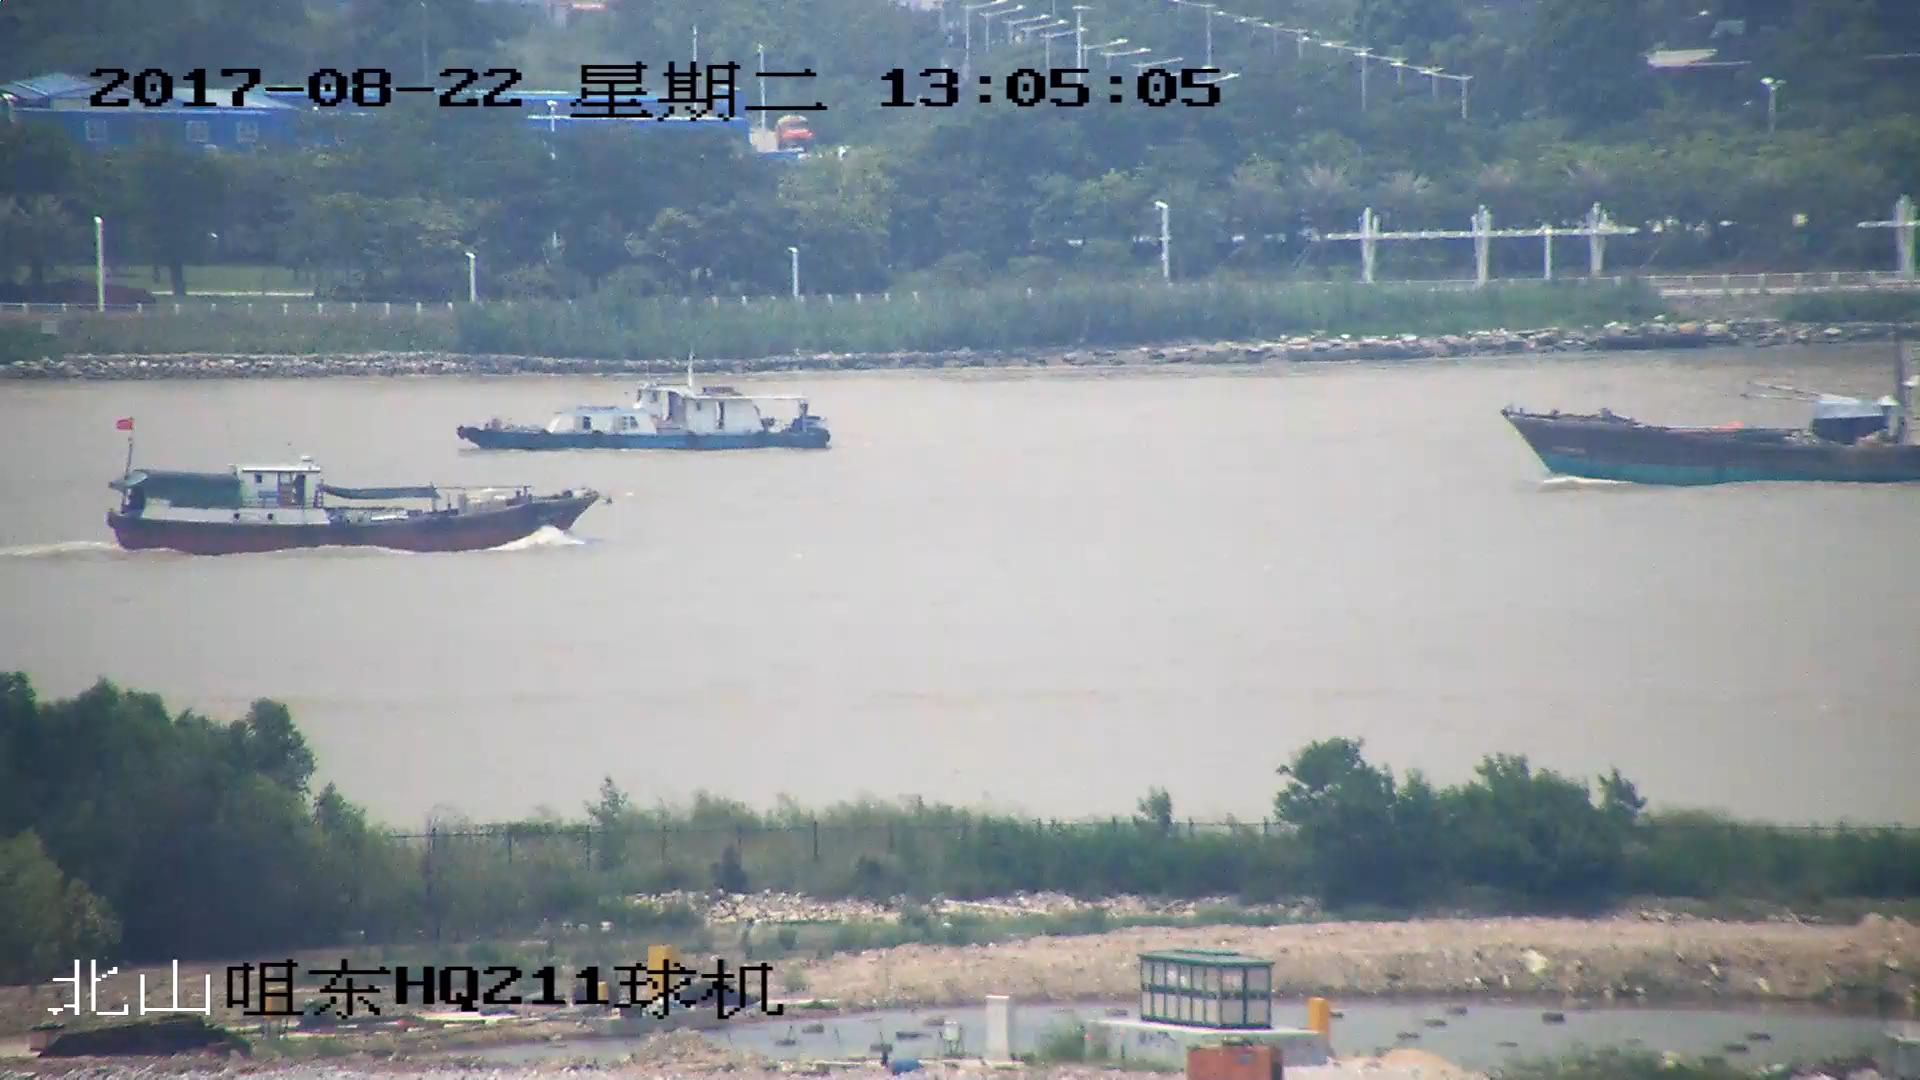fishing boat: (104, 416, 612, 554), (1510, 350, 1920, 486), (461, 354, 836, 454)
